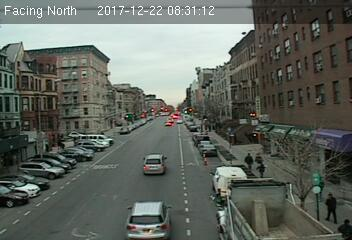car: (126, 200, 172, 239), (142, 153, 167, 175), (199, 143, 217, 154)
truck: (210, 165, 246, 197)
